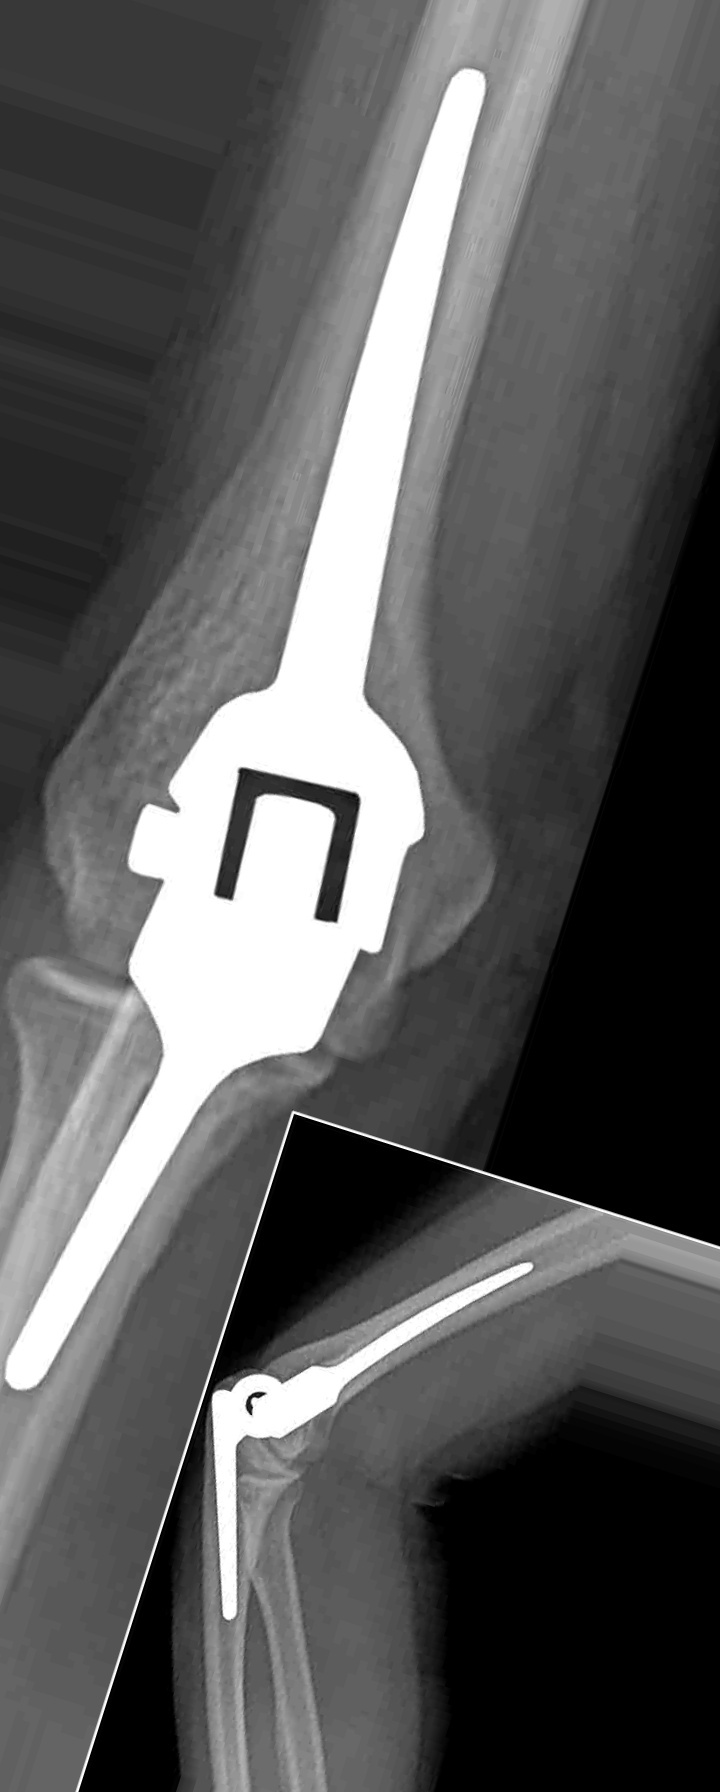Elbow - Osteonics - Stryker: (49, 50, 531, 1227), (179, 1248, 577, 1629)
